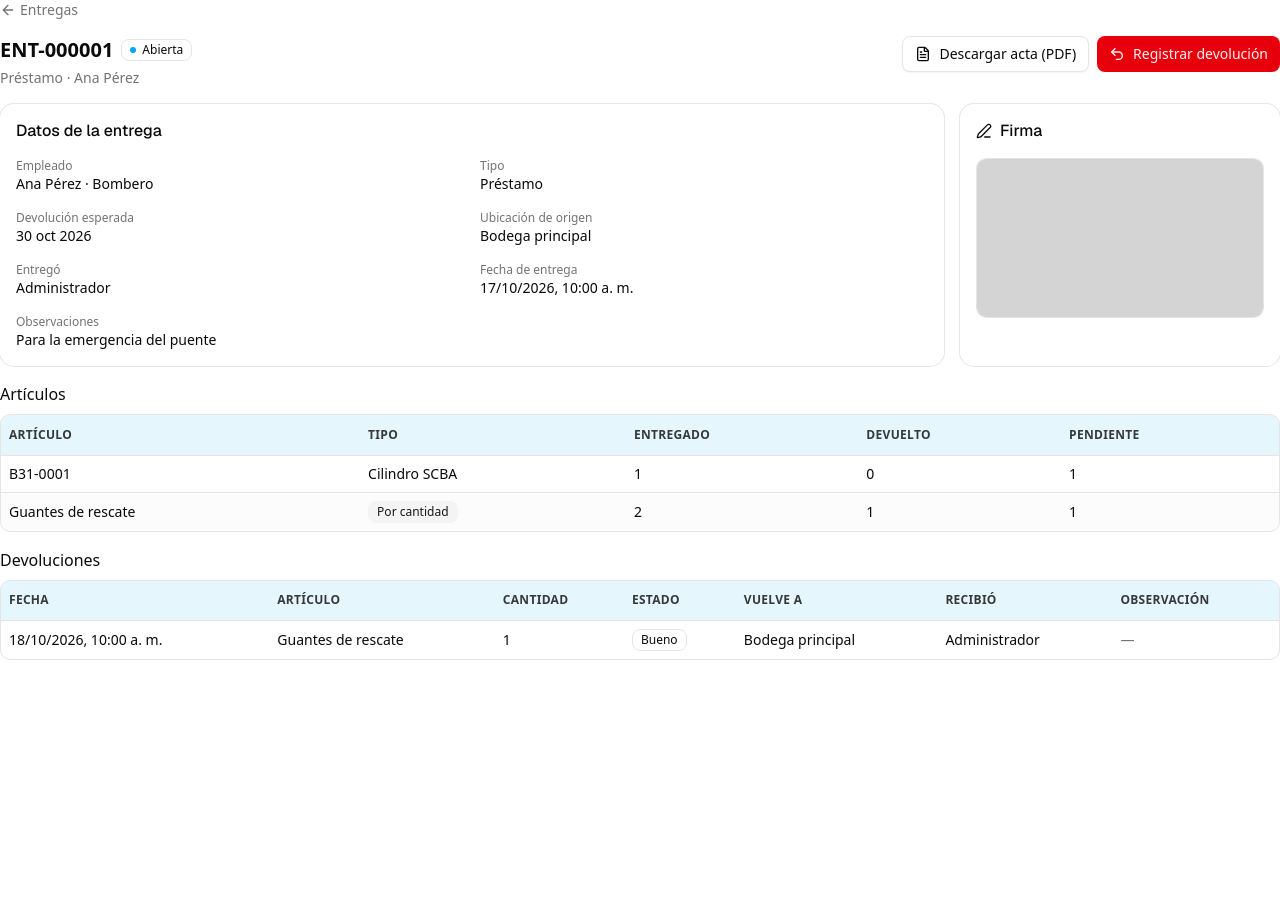
DeliveryDetailScreen (/entregas/[id], 007 US2, US3) › perdido exige observación; la cantidad no supera lo pendiente
Click the button "Registrar devolución": coordinates (1189, 54) [1097,36,1279,72]
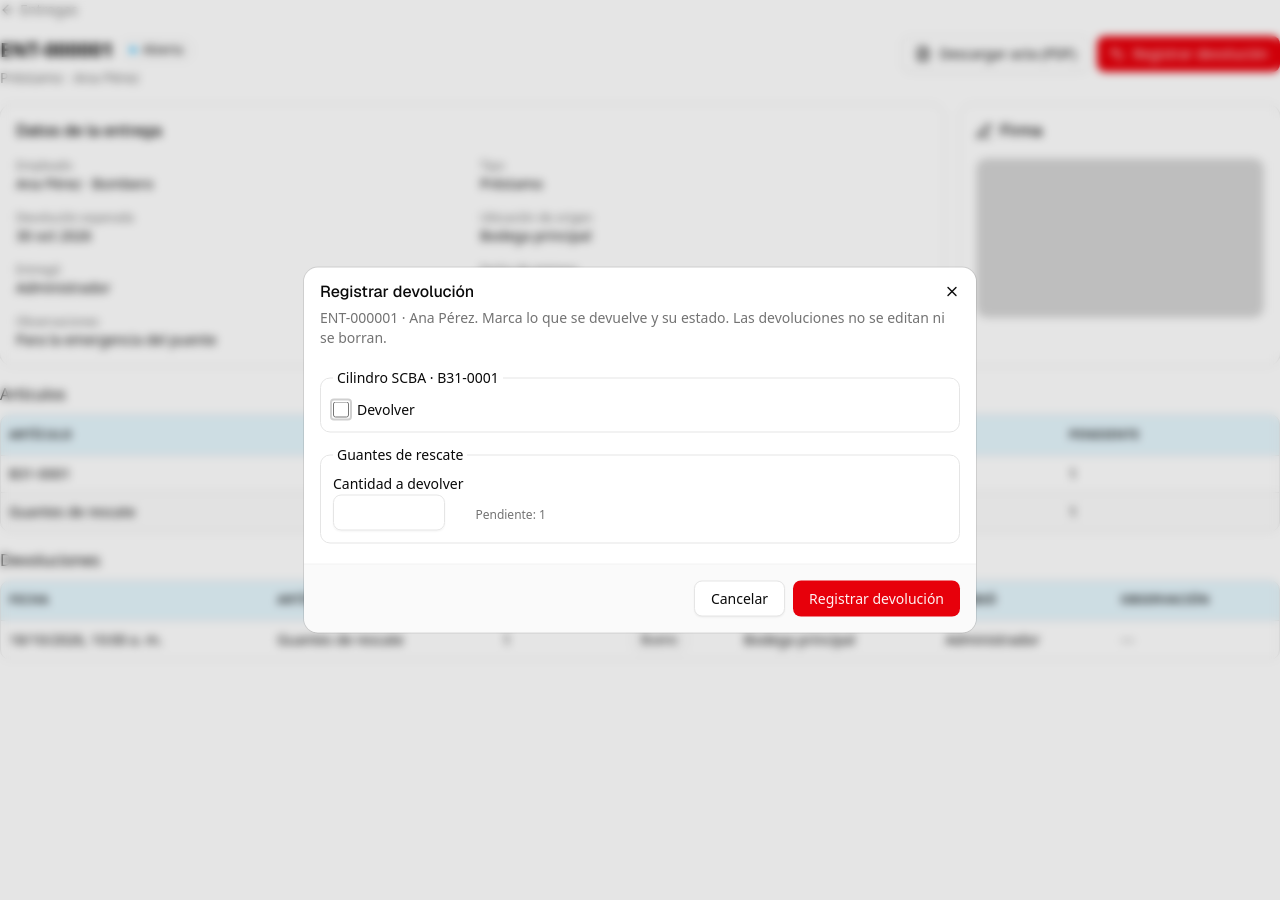
Click the checkbox labelled "Devolver": coordinates (341, 410) [333,402,349,418]
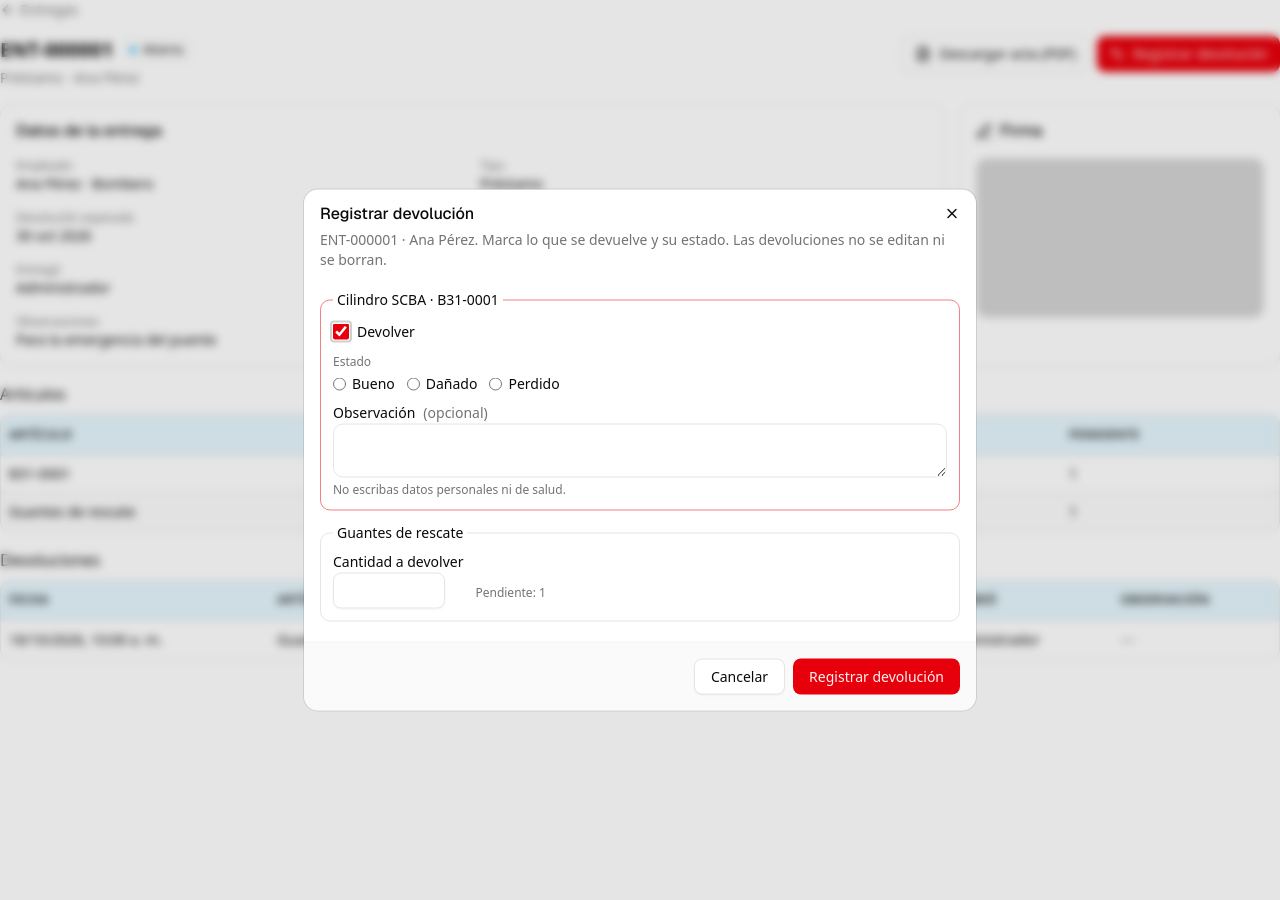
Click the radio button labelled "Perdido": coordinates (496, 384) [490,377,502,390]
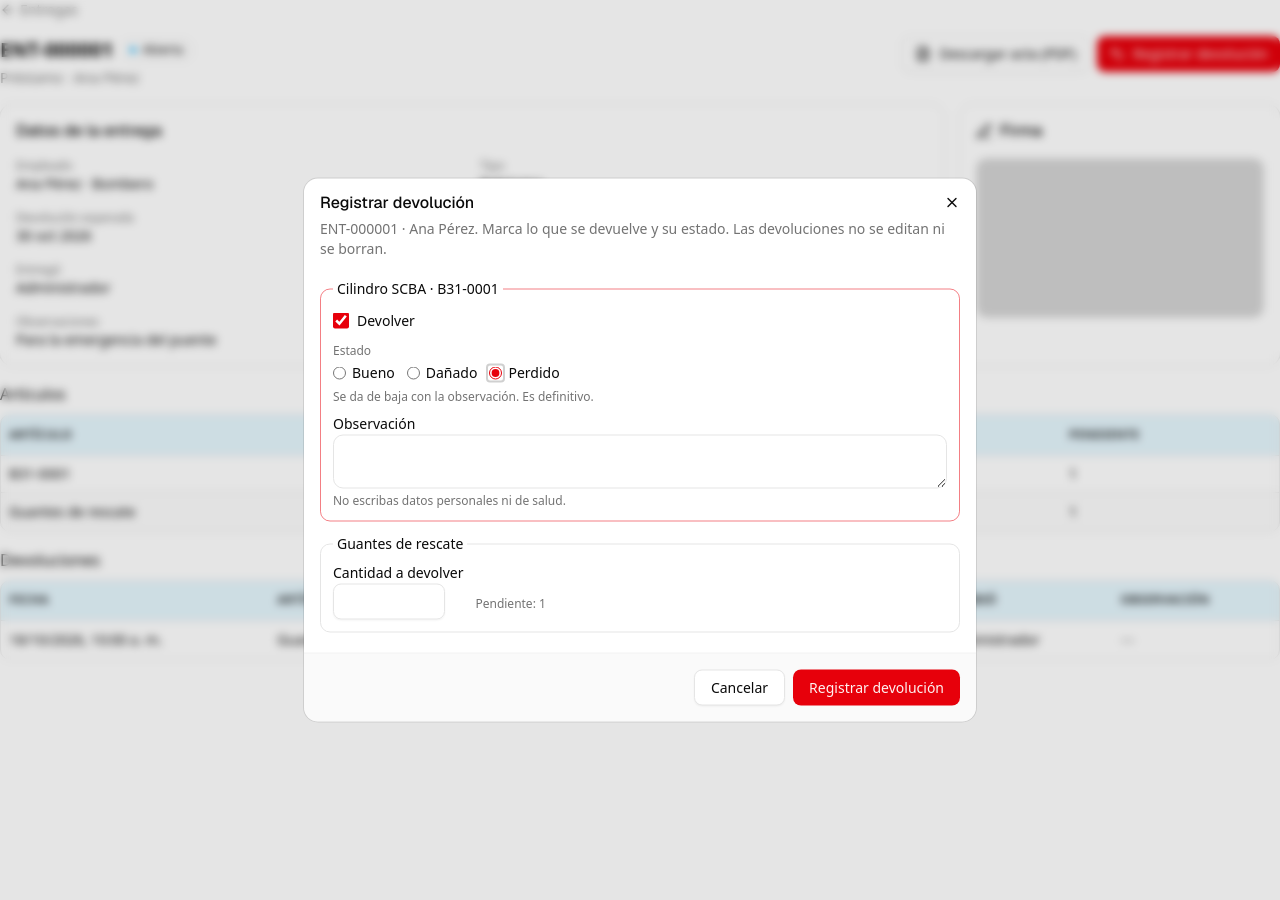
Expected: the text "Pendiente: 1" is shown, [475,596,546,620]
In the number field labelled "Cantidad a devolver": coordinates (389, 602) [333,584,445,620], type "2"
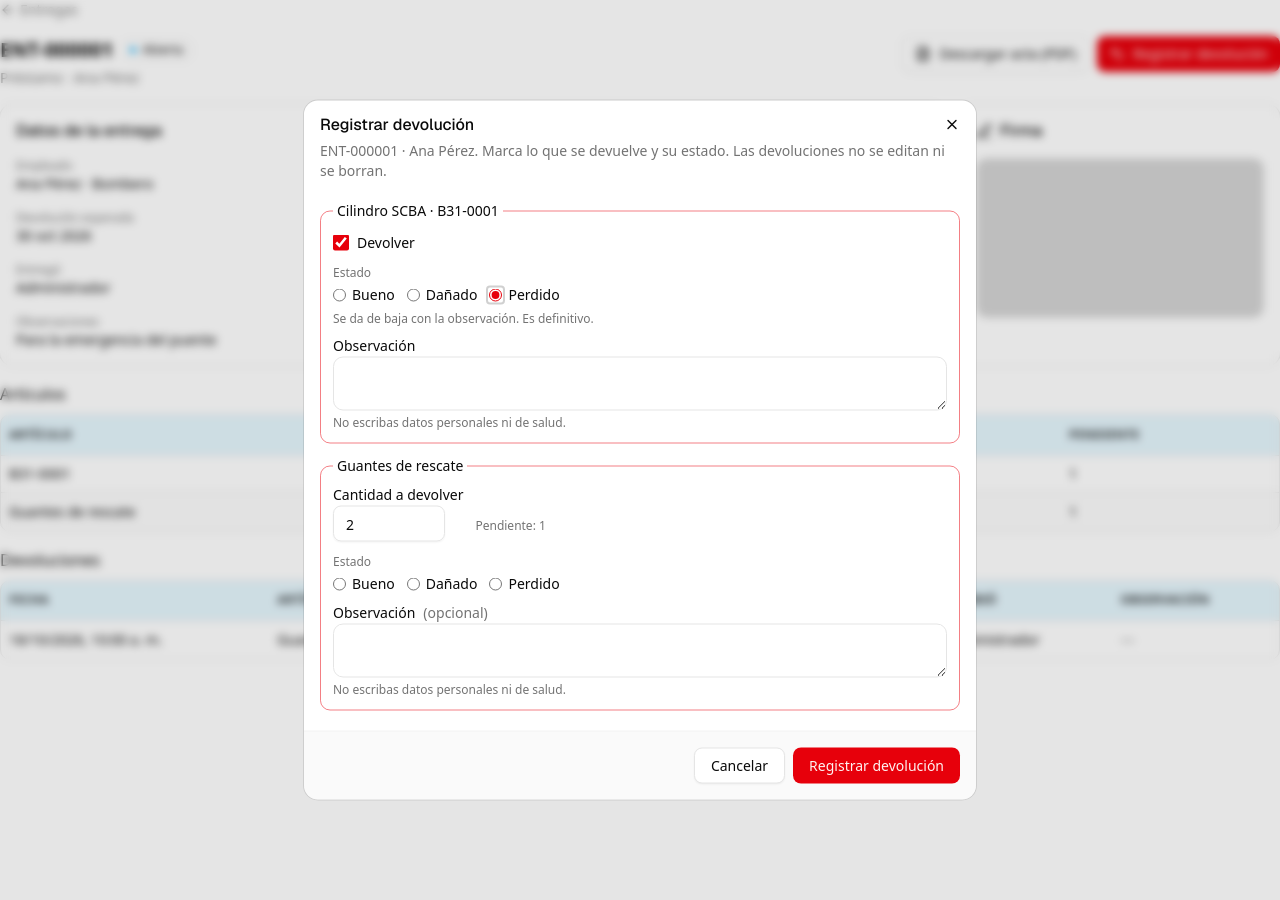
Click the radio button labelled "Bueno" below "Pendiente:": coordinates (340, 584) [333,577,346,590]
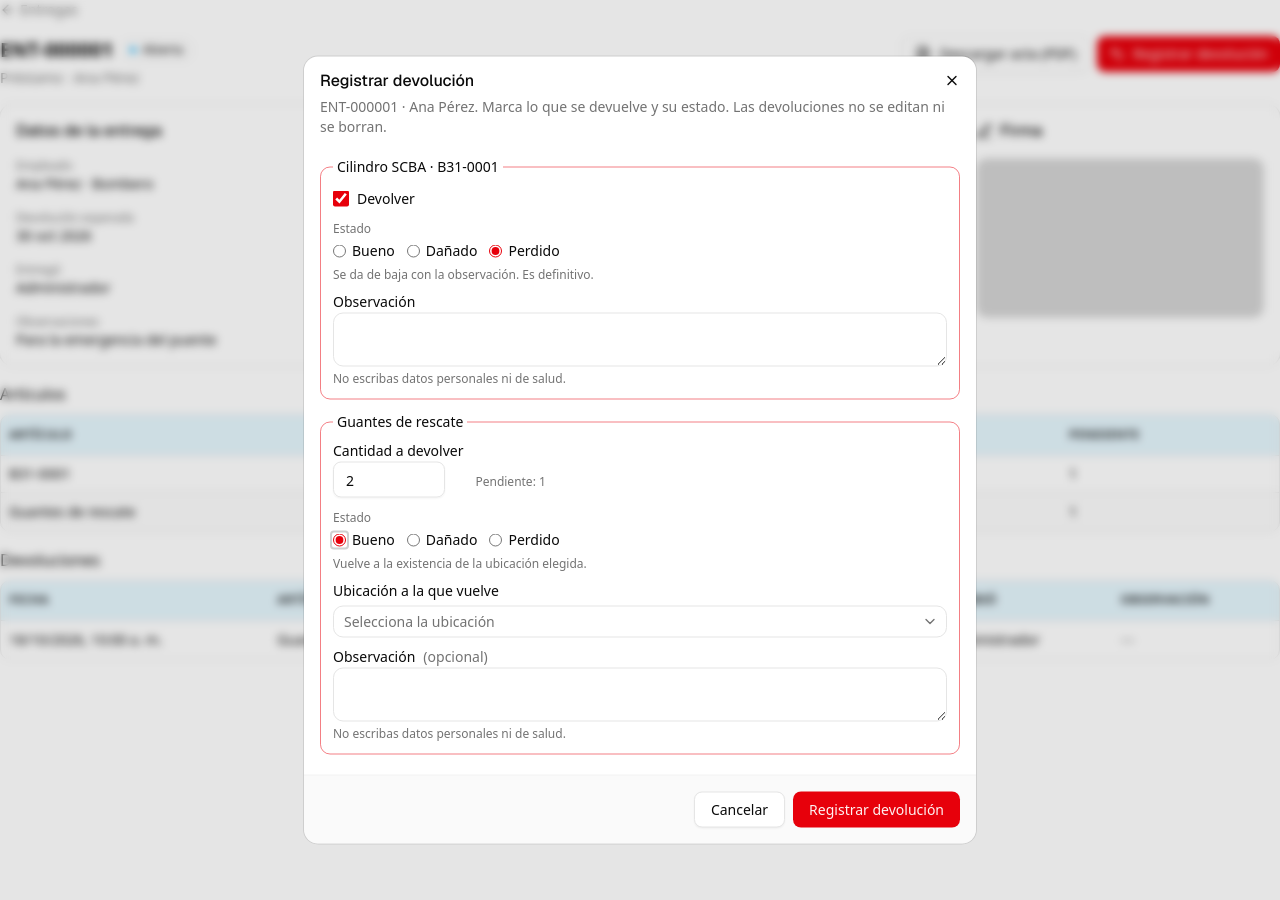
Click the button "Registrar devolución": coordinates (877, 810) [793,792,960,828]
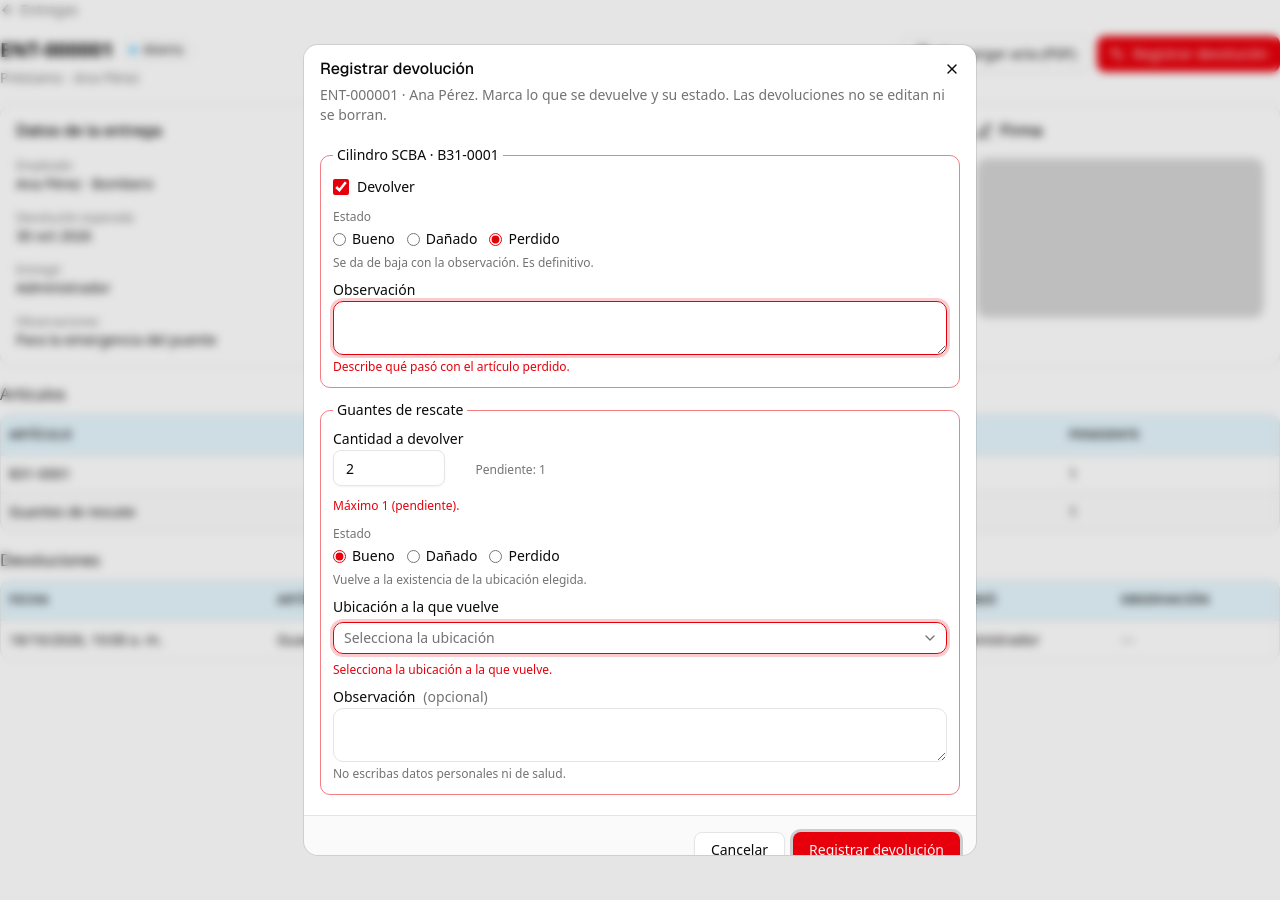
Expected: the text "Describe qué pasó con el artículo perdido." is shown, [333,358,570,375]
Expected: the text "Máximo 1 (pendiente)." is shown, [333,497,459,514]
